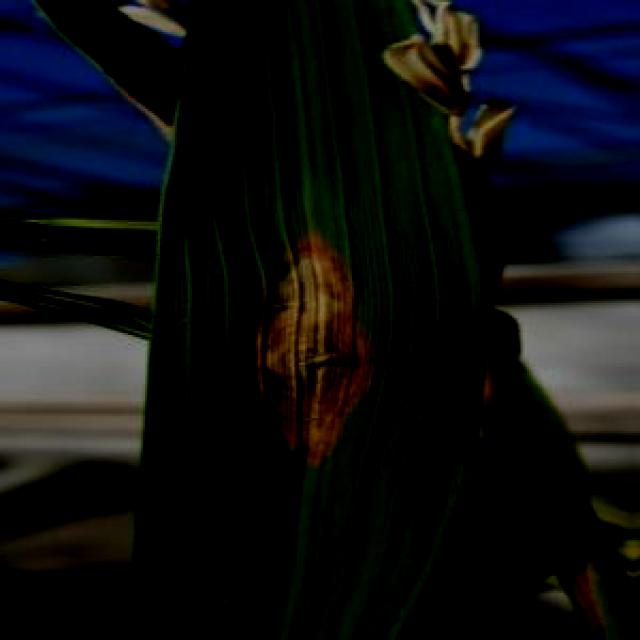Brown_Spot: (236, 205, 394, 474)
